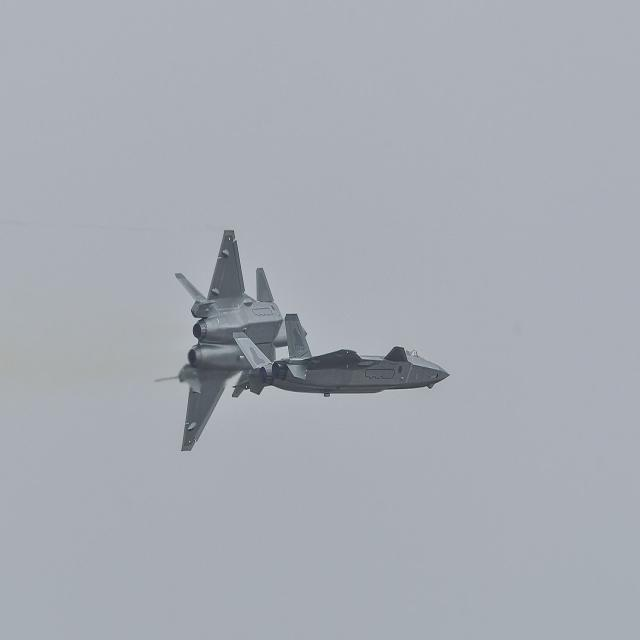MIL_Plane: (154, 229, 308, 452), (232, 313, 450, 397)
